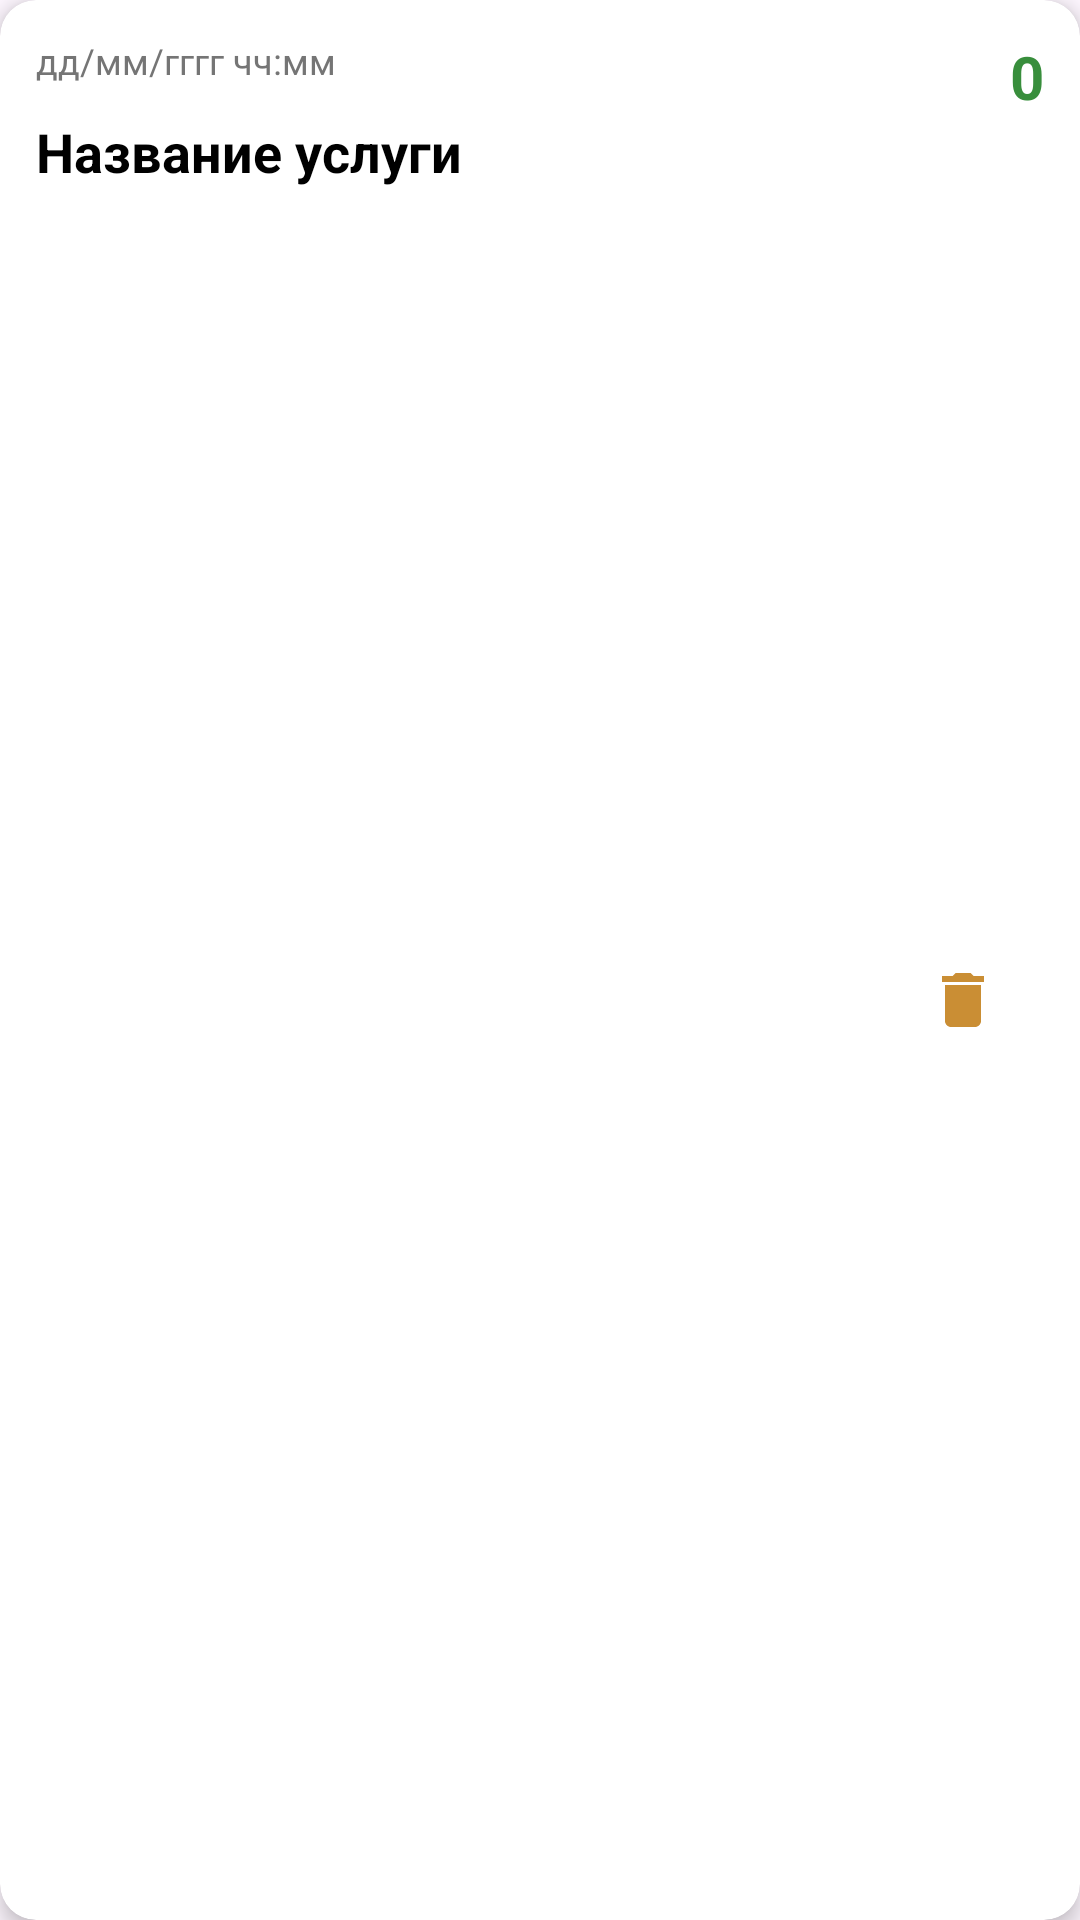

Named icons in this screenshot (1080×1920) and their bounding boxes, (x1, y1, x2, y2):
delete: (942, 973, 984, 1027)
